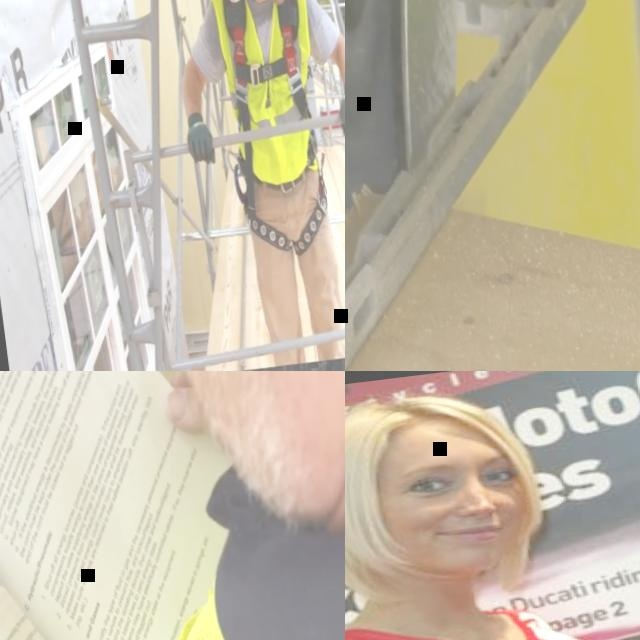NO-Hardhat: (345, 388, 519, 470)
NO-Mask: (128, 371, 345, 537), (367, 483, 523, 580)
NO-Safety Vest: (210, 0, 328, 183), (345, 571, 640, 640)
Person: (345, 371, 640, 640), (150, 0, 345, 371), (89, 371, 345, 640)
Safety Vest: (138, 540, 345, 640)
